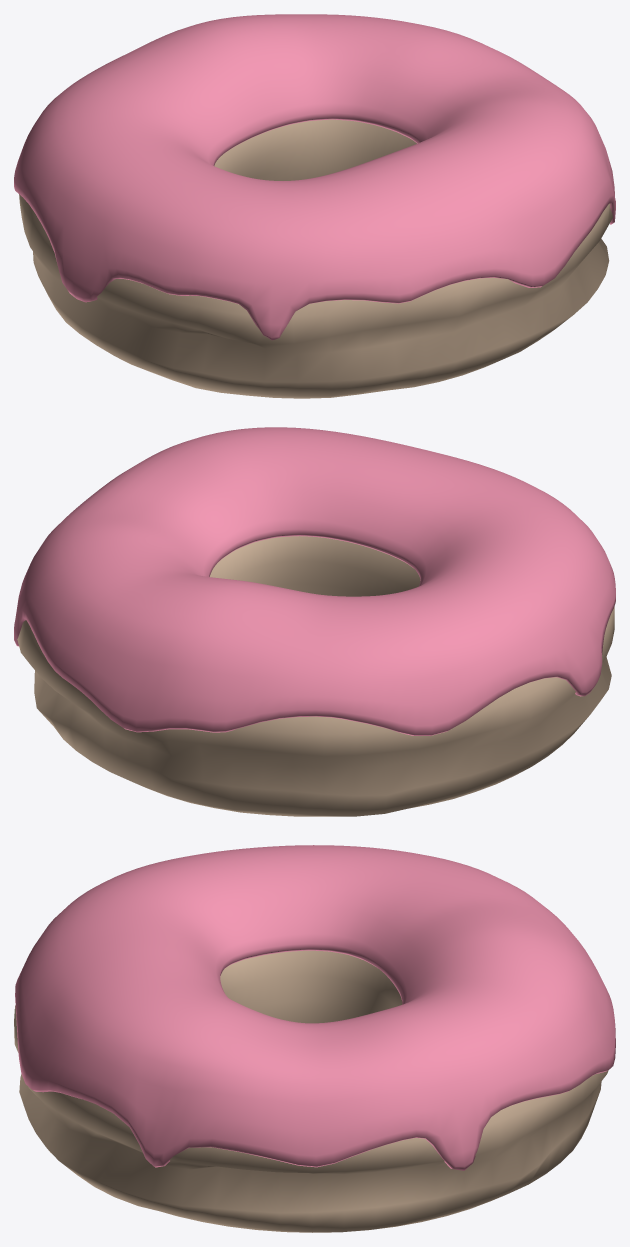
File: donut.fbx
3 renders of one model, top to bottom at view 1: azimuth 30°, elevation 25°; view 2: azimuth 150°, elevation 25°; view 3: azimuth 270°, elevation 25°, orthographic. The views are drawn at different scales.
Visible parts, largest first — view 1: Icing, Donut; view 2: Icing, Donut; view 3: Icing, Donut.
Part boxes in pixels (x1,y1,x2,y2): Icing: (14,14,615,340); Donut: (19,119,612,398); Icing: (14,427,615,735); Donut: (17,536,614,816); Icing: (15,845,615,1170); Donut: (14,950,608,1232).
Bounding box in the file's own units: 15.02 × 5.6 × 14.75.
